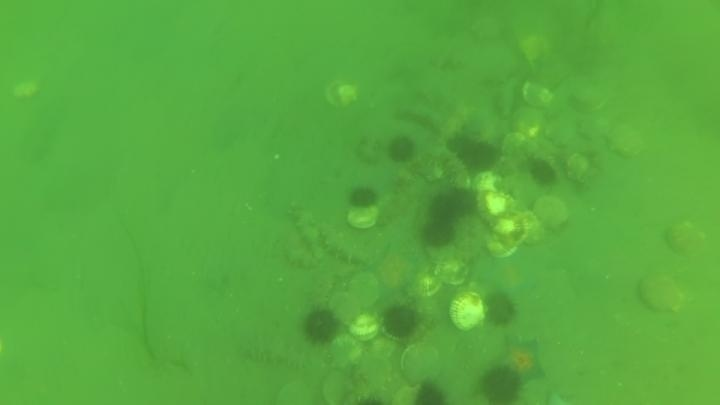echinus: (427, 185, 480, 224), (476, 364, 525, 404), (299, 305, 342, 348), (453, 132, 499, 171), (379, 302, 422, 341), (481, 290, 519, 330), (419, 217, 458, 250), (385, 134, 418, 166), (526, 157, 559, 189), (411, 379, 449, 405), (346, 184, 380, 211)
holothurian: (284, 202, 326, 270), (238, 338, 316, 370), (316, 226, 371, 268), (312, 271, 343, 314)
scallop: (479, 206, 538, 257), (635, 271, 688, 316), (398, 342, 444, 387), (662, 218, 708, 258), (447, 290, 489, 333), (530, 195, 571, 233), (325, 334, 364, 372), (470, 170, 508, 206), (498, 131, 533, 168), (517, 32, 553, 67), (431, 258, 471, 289), (319, 370, 354, 405), (323, 80, 361, 111), (347, 267, 383, 299), (348, 312, 382, 343), (520, 80, 555, 110), (330, 291, 362, 322), (563, 152, 592, 184), (346, 206, 382, 230), (482, 191, 512, 218), (10, 78, 42, 102), (415, 274, 443, 299)
starfish: (364, 243, 424, 292), (498, 339, 548, 386)
